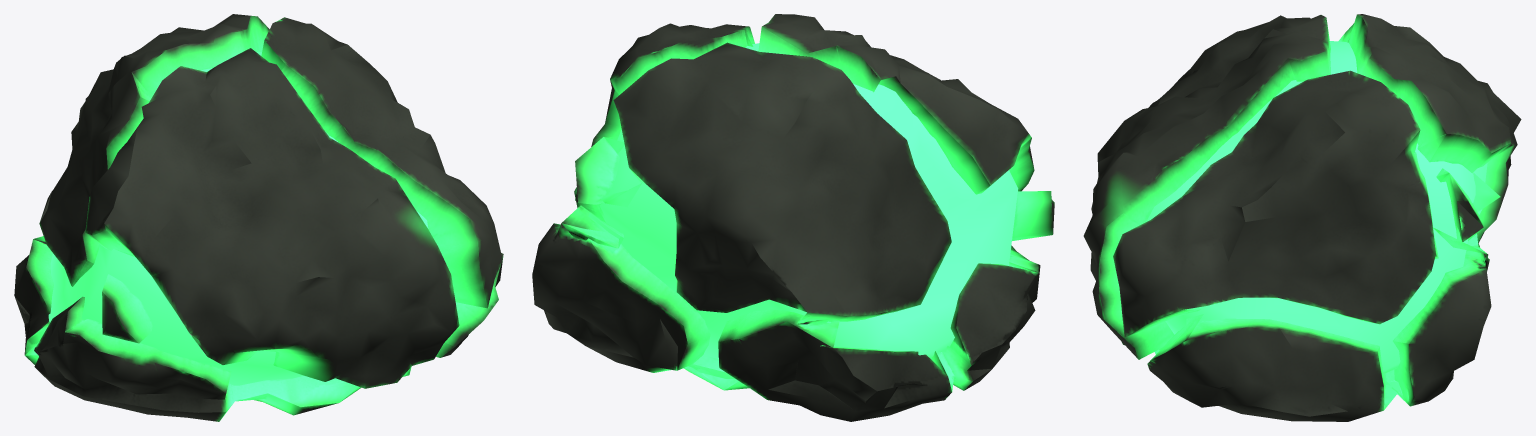
File: mineral_neon_verde.fbx
The picture shows the model from 3 angles, left to right: view 1: azimuth 30°, elevation 25°; view 2: azimuth 150°, elevation 25°; view 3: azimuth 270°, elevation 25°; orthographic projection. The views are drawn at different scales.
Parts seen in each view (by area): view 1: mineral_neon_verde, mineral_neon_verde_neon; view 2: mineral_neon_verde, mineral_neon_verde_neon; view 3: mineral_neon_verde, mineral_neon_verde_neon.
Boxes of the visible parts, x1,y1,x2,y2 form: mineral_neon_verde: [14, 14, 503, 421]; mineral_neon_verde_neon: [48, 51, 428, 385]; mineral_neon_verde: [532, 14, 1054, 421]; mineral_neon_verde_neon: [588, 43, 1018, 359]; mineral_neon_verde: [1083, 14, 1521, 421]; mineral_neon_verde_neon: [1146, 41, 1487, 373].
Bounding box in the file's own units: 2.39 × 1.63 × 2.22.
Materials: 2 (2 with a texture image).
